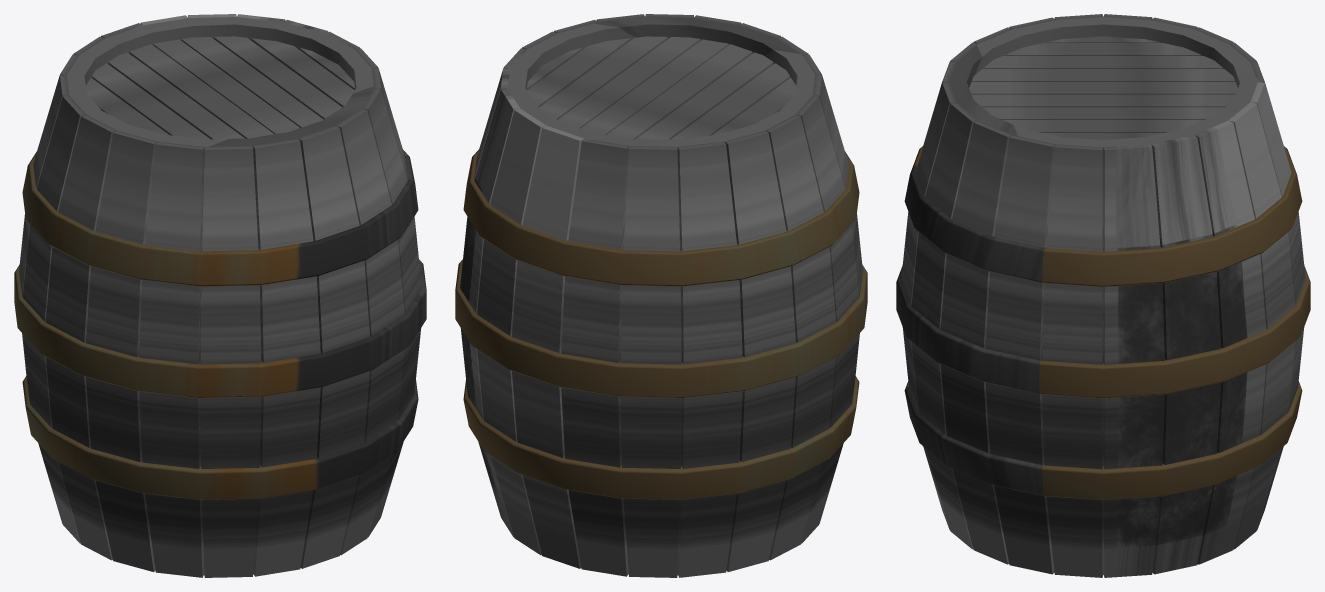
File: barrel.fbx
The picture shows the model from 3 angles, left to right: view 1: azimuth 30°, elevation 25°; view 2: azimuth 150°, elevation 25°; view 3: azimuth 270°, elevation 25°; orthographic projection.
Visible parts, largest first — view 1: barel1; view 2: barel1; view 3: barel1.
Part boxes in pixels (x1,y1,x2,y2): barel1: [14, 14, 426, 577]; barel1: [455, 14, 867, 577]; barel1: [896, 14, 1310, 577].
Size of the model in its own units: 290 by 330 by 290.
